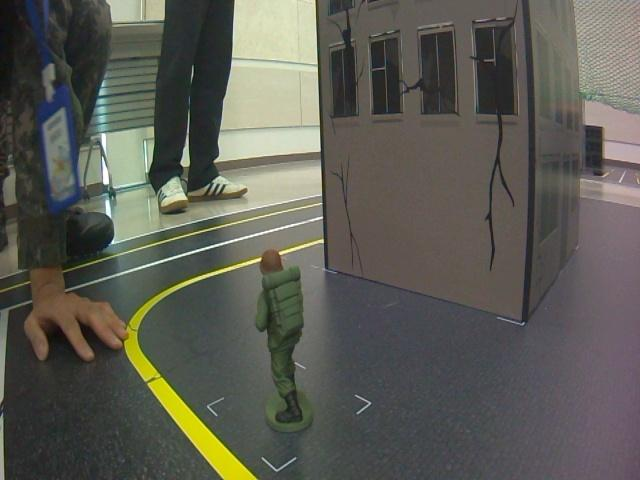Enemy: (247, 245, 325, 439)
